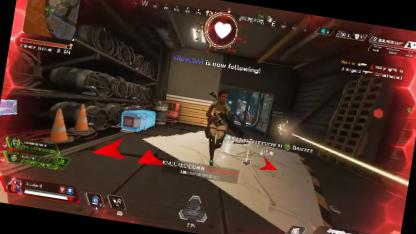Target: (202, 89, 233, 166)
